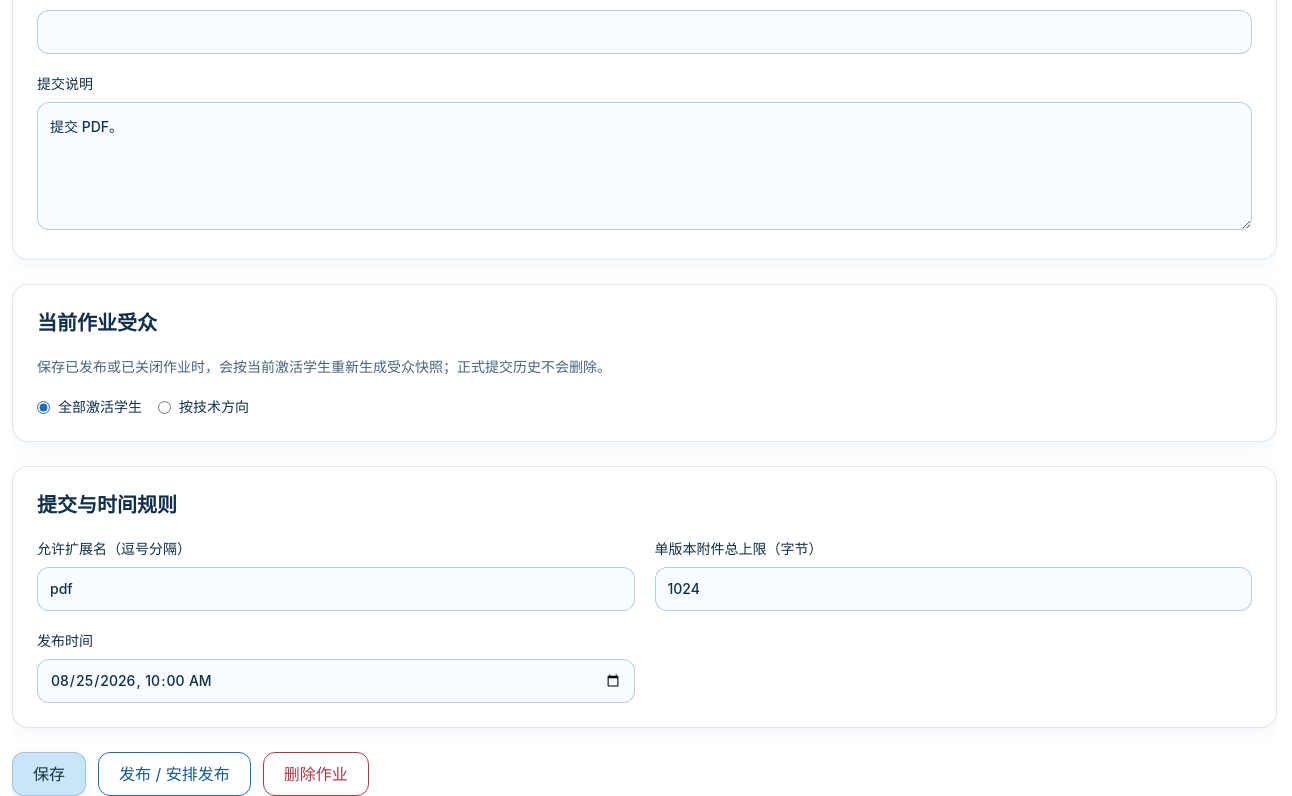
Test: admin permissions UI › does not retry when the session cannot restore administrator view
This screenshot has width=1292, height=796.
(page scrolled)
Click the button "保存" at (49, 774), box [12, 752, 86, 795]
(page scrolled)
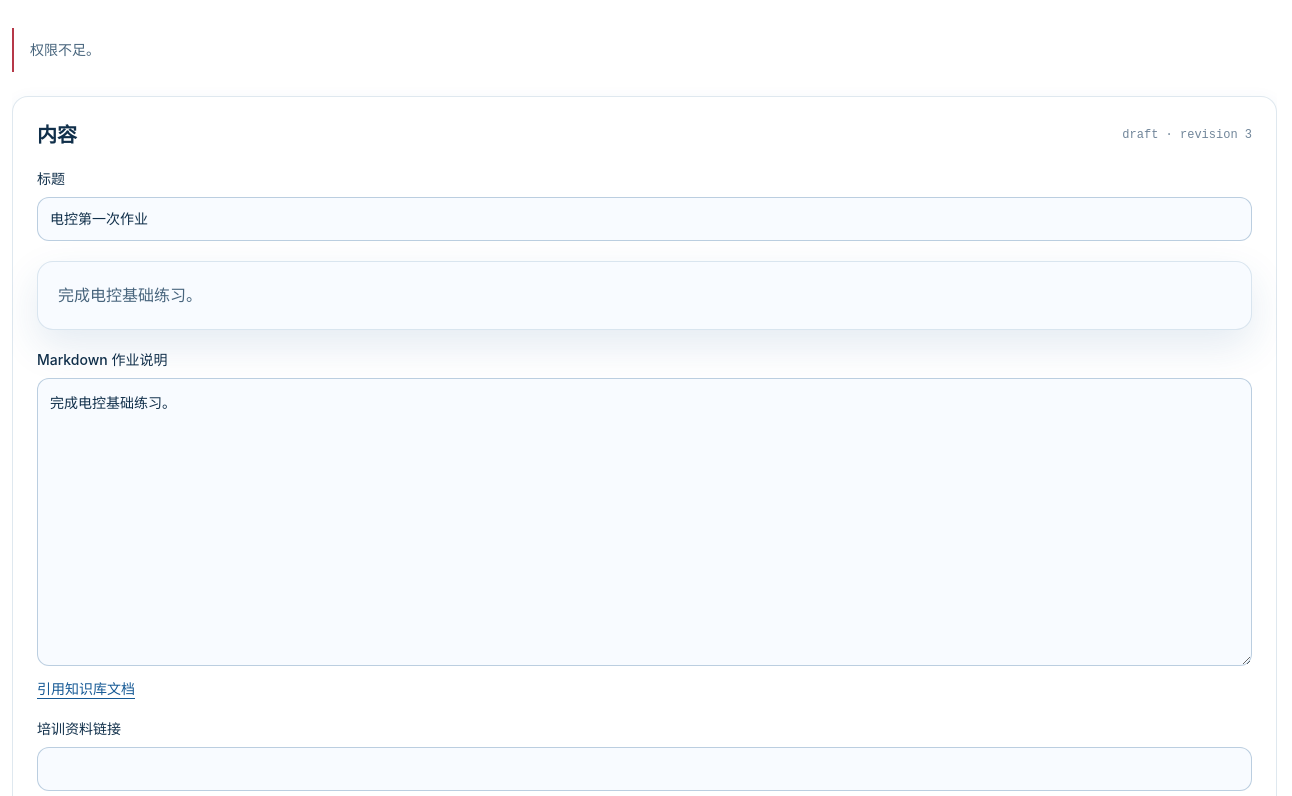
Now the text "权限不足。" is shown, box [12, 28, 1277, 72]
